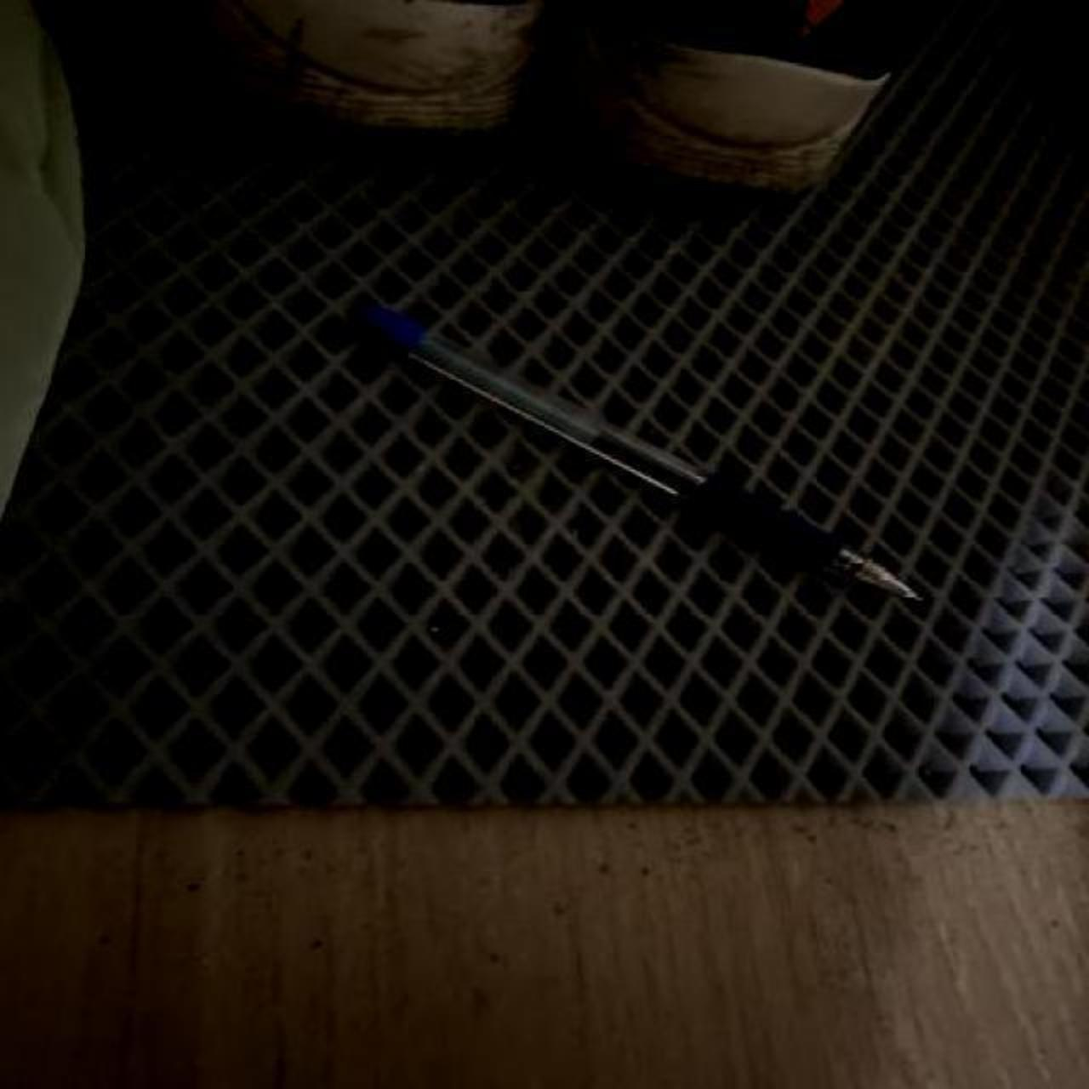pen: (264, 259, 927, 607)
